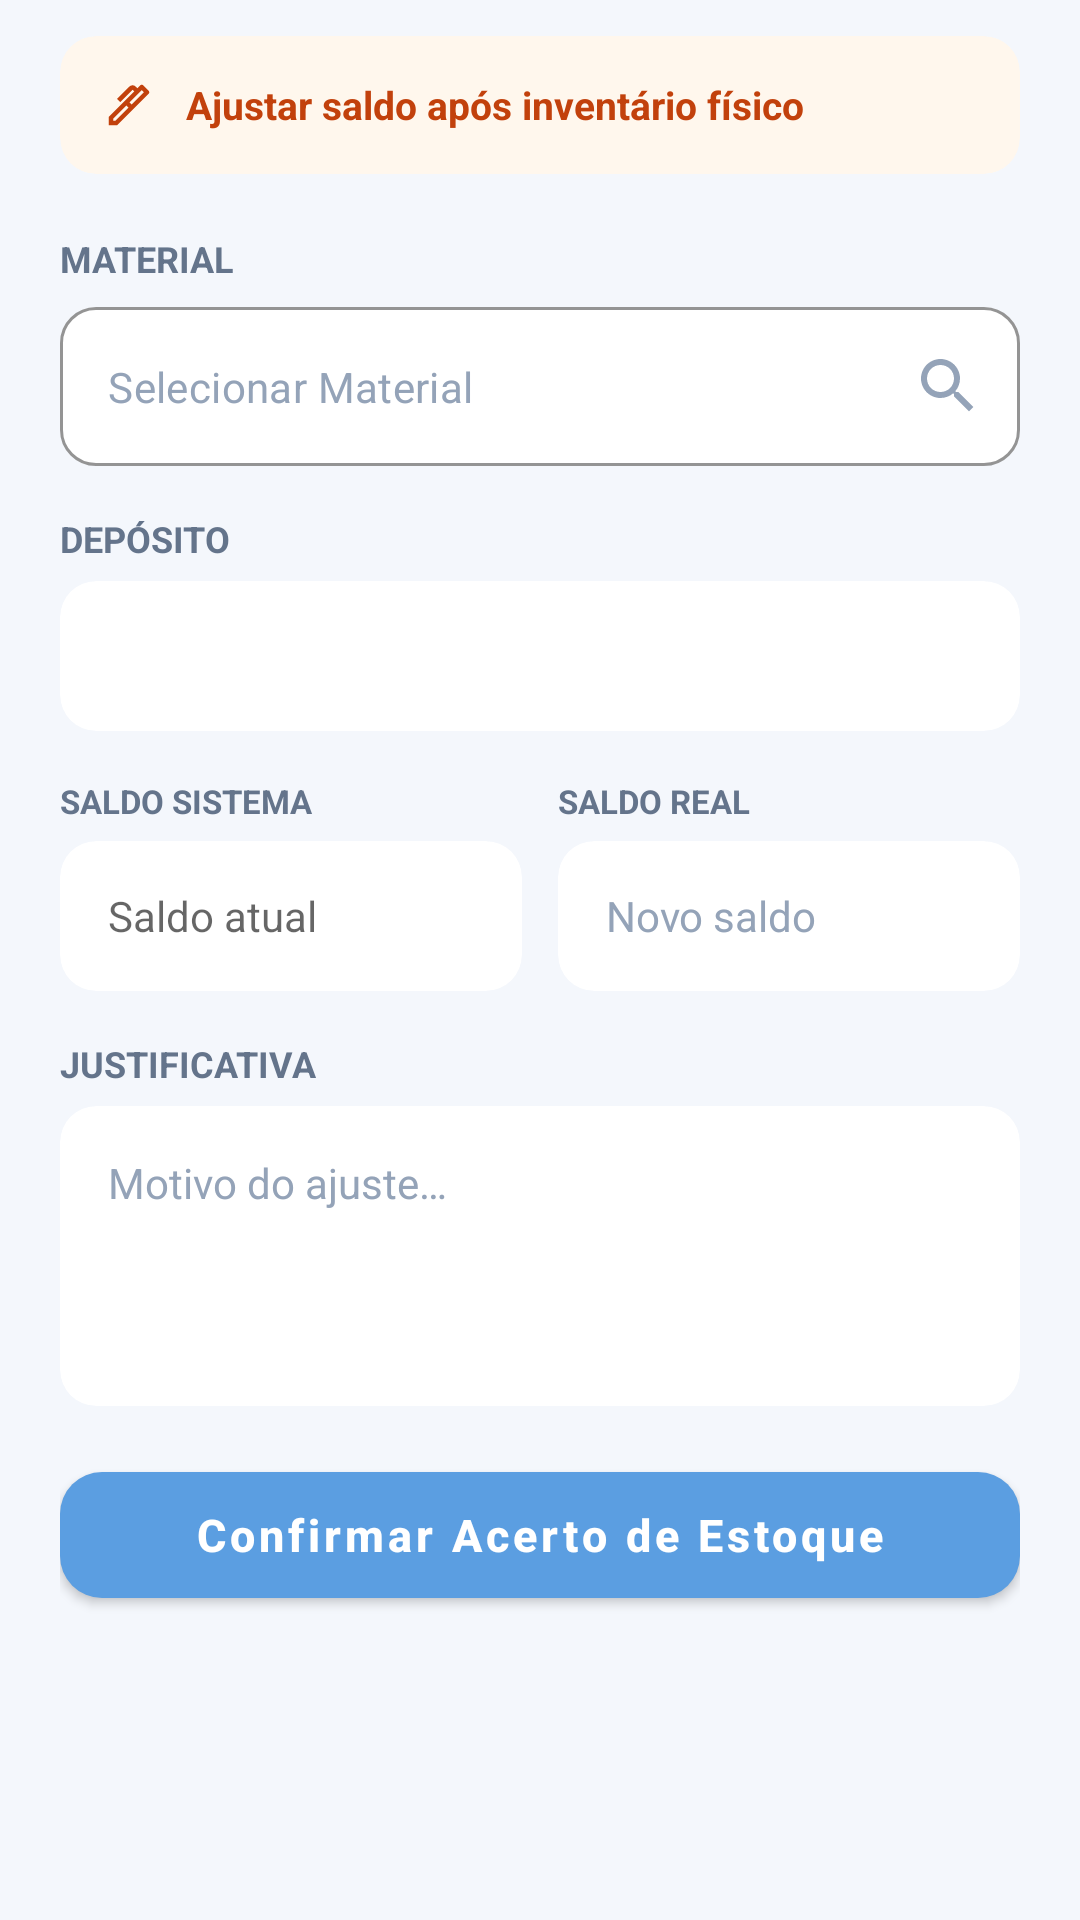

Icon bounding boxes for this 1080 × 1920 phone screenshot, format (x1, y1, x2, y2):
edit pencil: (108, 84, 150, 126)
